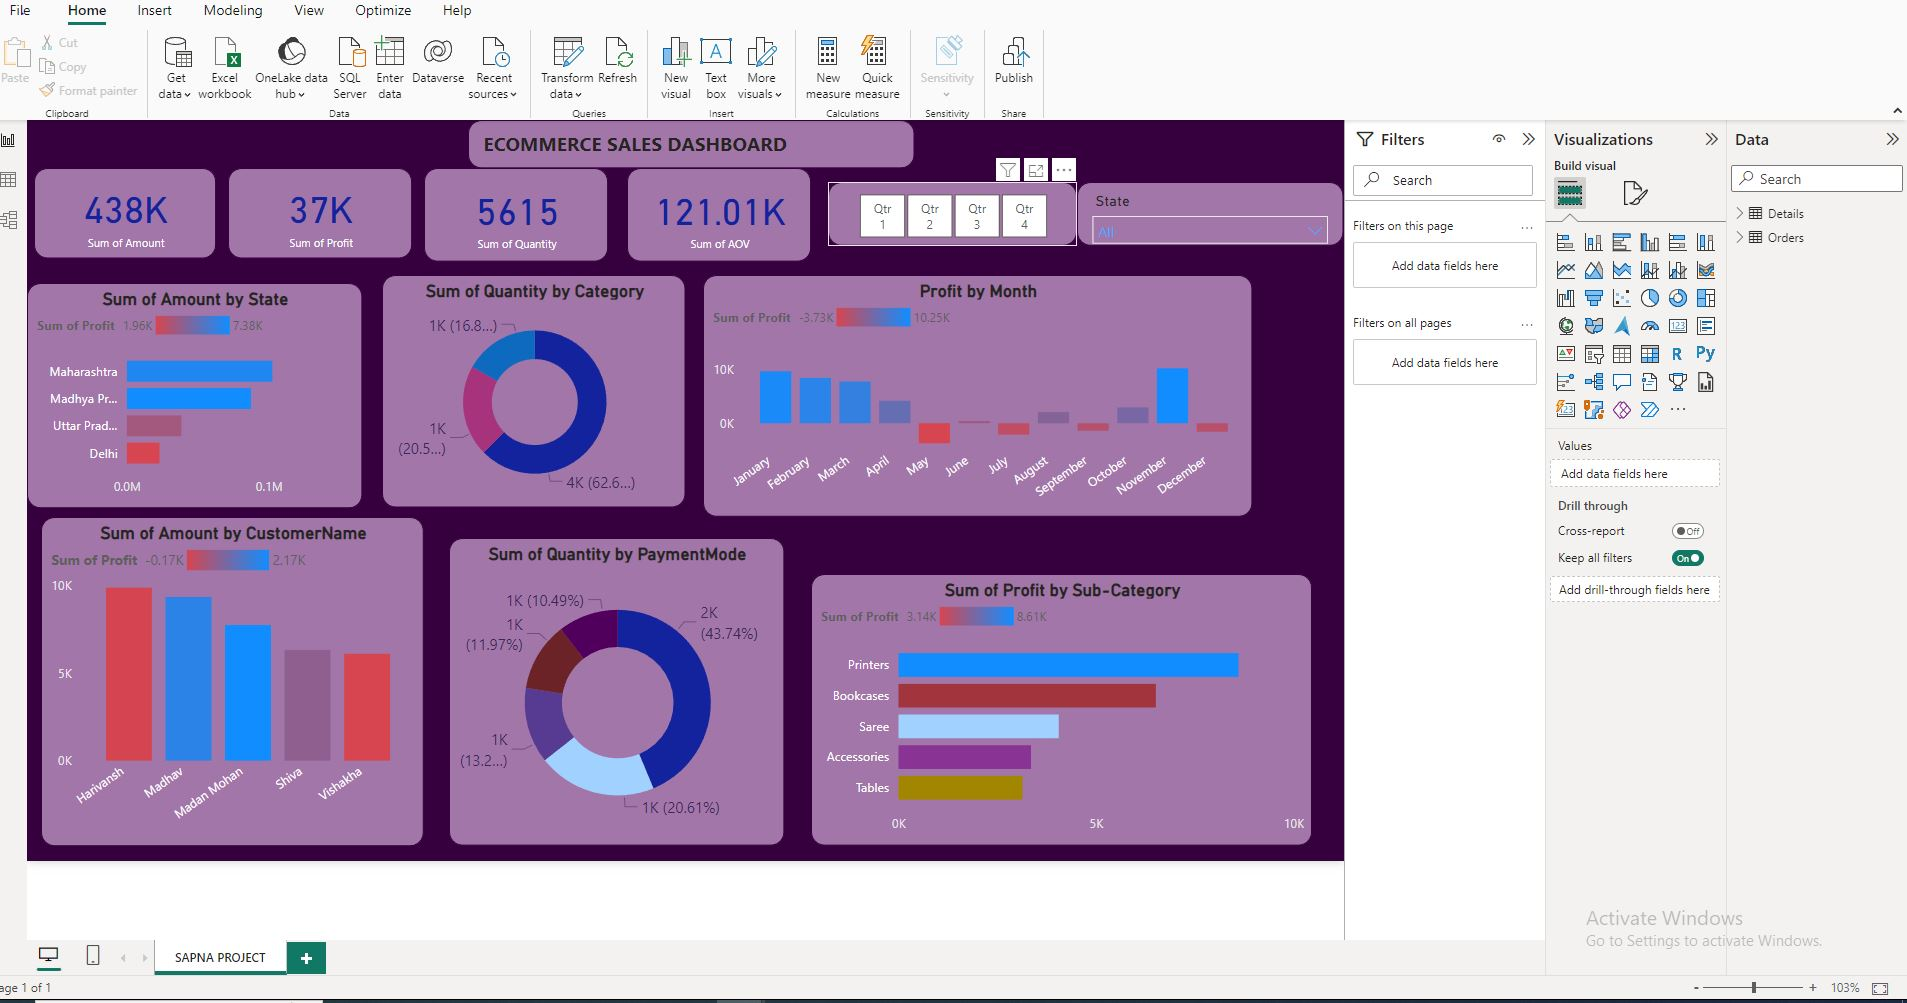

The page's visual inventory and layout, read from the dashboard file:
{"tool":"powerbi","page":{"name":"SAPNA PROJECT ","canvas":[1280,720],"ordinal":0},"visuals":[{"type":"textbox","box":[428.6,0,434.4,46.7],"z":0},{"type":"columnChart","title":"Profit by Month","fields":{"Y":["Details.Profit"],"Category":["Orders.Order Date.Variation.Date Hierarchy.Month"]},"box":[657,150.6,533.6,235.2],"z":2},{"type":"barChart","fields":{"Category":["Details.Sub-Category"],"Y":["Details.Profit"]},"box":[762,441.2,486.9,264.4],"z":3},{"type":"donutChart","fields":{"Category":["Details.Category"],"Y":["Details.Quantity"]},"box":[345,150.6,295.5,226.5],"z":4},{"type":"donutChart","fields":{"Y":["Details.Quantity"],"Category":["Details.PaymentMode"]},"box":[410.1,406.3,325.6,299.3],"z":5},{"type":"card","fields":{"Values":["Details.Amount"]},"box":[6.8,46.7,176.9,88.4],"z":6},{"type":"card","fields":{"Values":["Details.Profit"]},"box":[195.4,46.7,178.8,88.4],"z":7},{"type":"card","fields":{"Values":["Details.Quantity"]},"box":[385.8,46.7,178.8,91.4],"z":8},{"type":"card","fields":{"Values":["Details.AOV"]},"box":[583.1,46.7,178.8,91.4],"z":9},{"type":"barChart","fields":{"Category":["Orders.State"],"Y":["Details.Amount"]},"box":[0,158.4,325.6,218.7],"z":10},{"type":"columnChart","fields":{"Category":["Orders.CustomerName"],"Y":["Details.Amount"]},"box":[13.6,385.8,372.2,319.8],"z":11},{"type":"slicer","fields":{"Values":["Orders.Order Date.Variation.Date Hierarchy.Quarter"]},"box":[778.5,60.3,242,62.2],"z":12},{"type":"slicer","fields":{"Values":["Orders.State"]},"box":[1020.5,60.3,259.5,62.2],"z":13}]}

Visuals, with their boxes on the page's 1280x720 design canvas (x1, y1, x2, y2). These are canvas units, not pixel positions in the 1907x1003 screenshot, which may show the page scaled, cropped or inside an application window:
textbox: pyautogui.locateOnScreen(429, 0, 863, 47)
"Profit by Month" columnChart: pyautogui.locateOnScreen(657, 151, 1191, 386)
barChart - Details.Sub-Category x Details.Profit: pyautogui.locateOnScreen(762, 441, 1249, 706)
donutChart - Details.Category x Details.Quantity: pyautogui.locateOnScreen(345, 151, 640, 377)
donutChart - Details.Quantity x Details.PaymentMode: pyautogui.locateOnScreen(410, 406, 736, 706)
card - Details.Amount: pyautogui.locateOnScreen(7, 47, 184, 135)
card - Details.Profit: pyautogui.locateOnScreen(195, 47, 374, 135)
card - Details.Quantity: pyautogui.locateOnScreen(386, 47, 565, 138)
card - Details.AOV: pyautogui.locateOnScreen(583, 47, 762, 138)
barChart - Orders.State x Details.Amount: pyautogui.locateOnScreen(0, 158, 326, 377)
columnChart - Orders.CustomerName x Details.Amount: pyautogui.locateOnScreen(14, 386, 386, 706)
slicer - Orders.Order Date.Variation.Date Hierarchy.Quarter: pyautogui.locateOnScreen(778, 60, 1020, 122)
slicer - Orders.State: pyautogui.locateOnScreen(1020, 60, 1280, 122)
